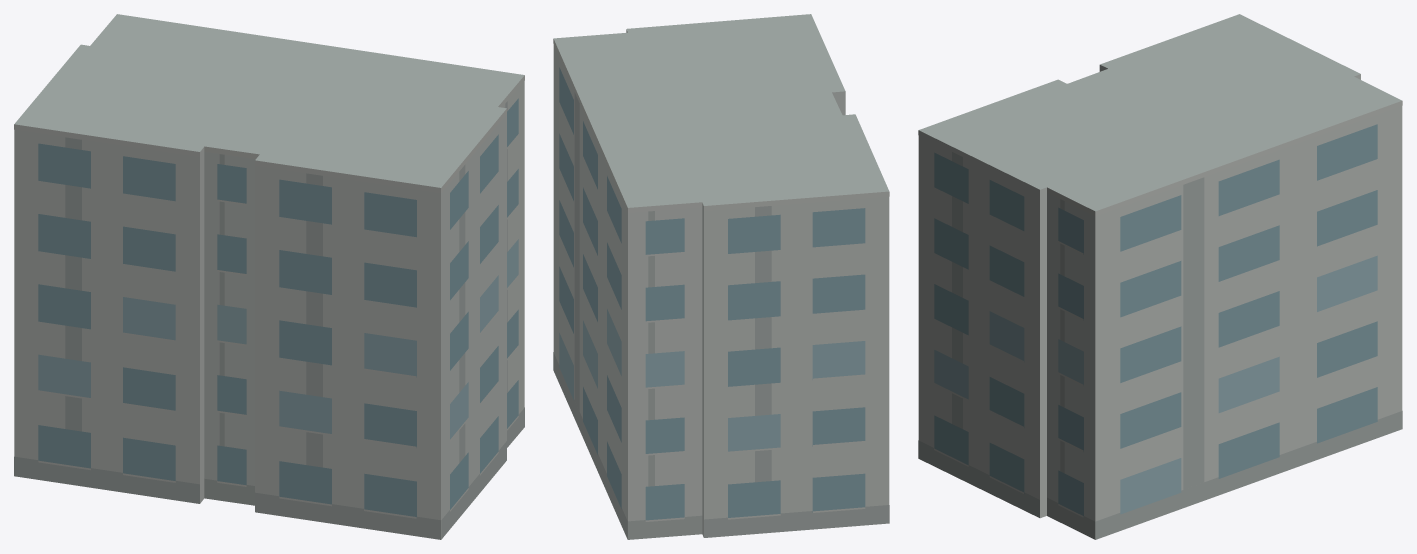
File: survey-upis-32680176.glb
3 renders of one model, left to right at view 1: azimuth 30°, elevation 25°; view 2: azimuth 150°, elevation 25°; view 3: azimuth 270°, elevation 25°, orthographic. The views are drawn at different scales.
Visible parts, largest first — view 1: survey-upis-32680176.tmp; view 2: survey-upis-32680176.tmp; view 3: survey-upis-32680176.tmp.
Boxes of the visible parts, left/top/right/bottom form: survey-upis-32680176.tmp: left=14, top=14, right=524, bottom=539; survey-upis-32680176.tmp: left=553, top=14, right=889, bottom=539; survey-upis-32680176.tmp: left=918, top=14, right=1402, bottom=539.
Size of the model in its own units: 20.37 by 15.8 by 21.1.
